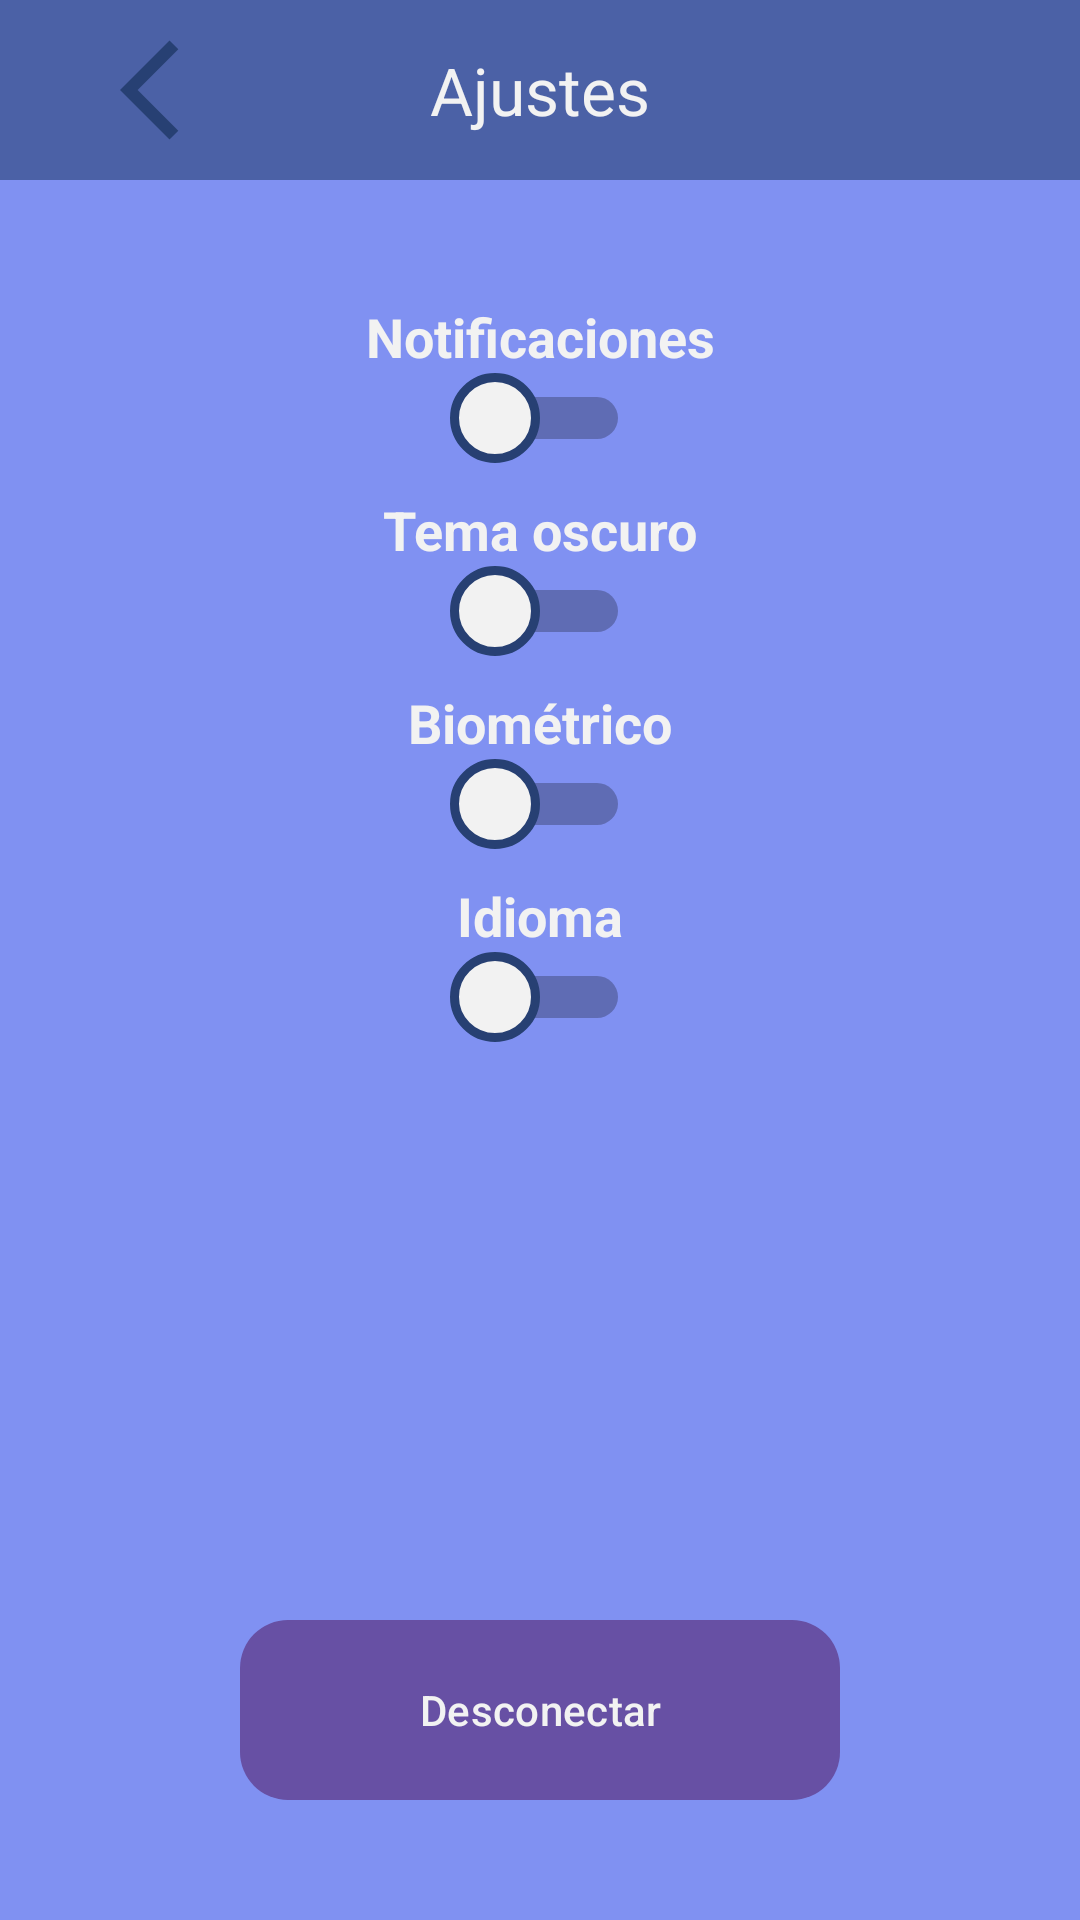

Icon click points for this 1080 × 1920 phone screenshot, format (x,y):
arrow back: (149,90)
